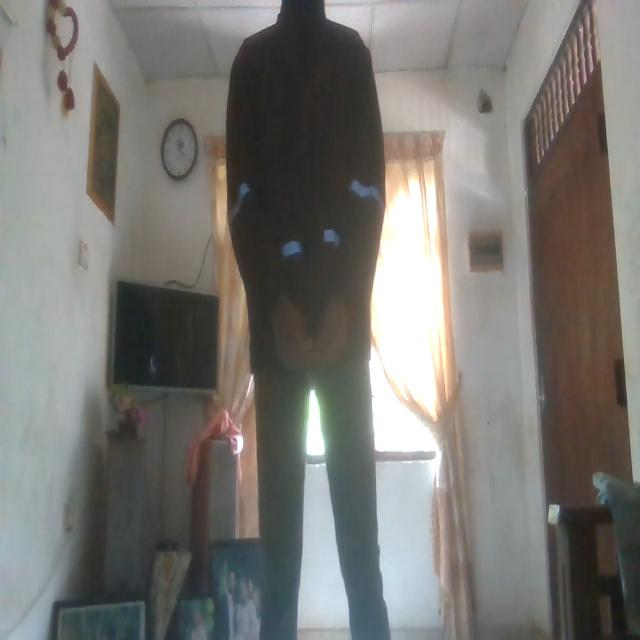Jacket_Wearer: (226, 9, 384, 356)
Person: (224, 0, 393, 640)
